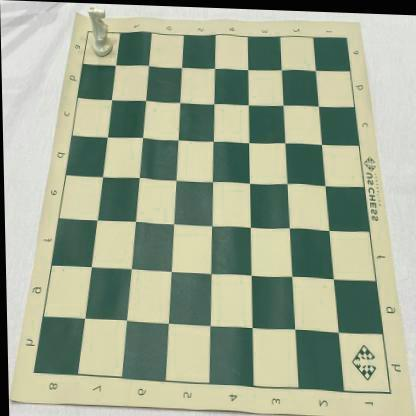white-knight: (87, 5, 114, 58)
